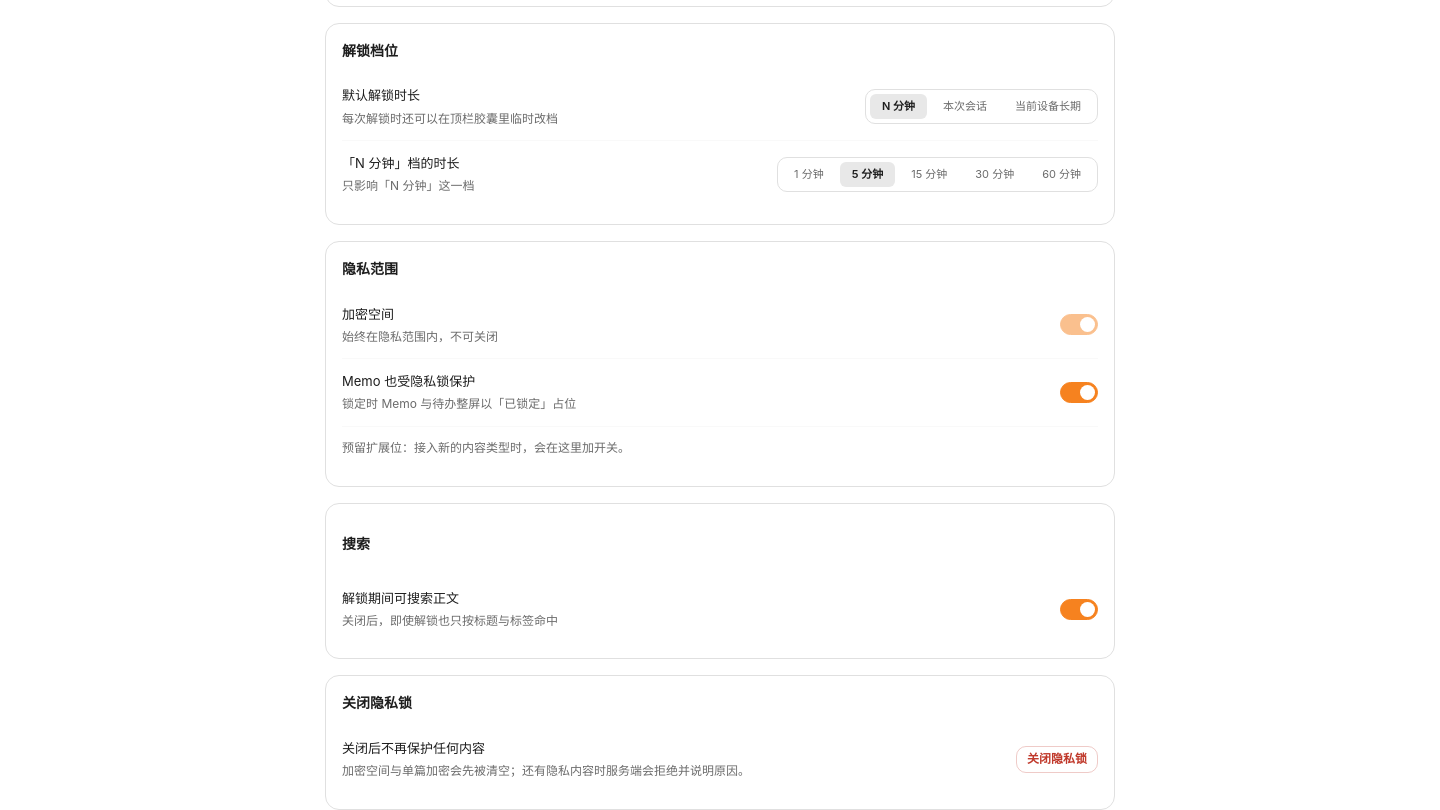
关闭隐私锁 › 关闭成功给出说明（而不是静默）
The image size is (1440, 810).
(page scrolled)
Click the button "关闭隐私锁" at point(1057, 759), box [1016,746,1098,773]
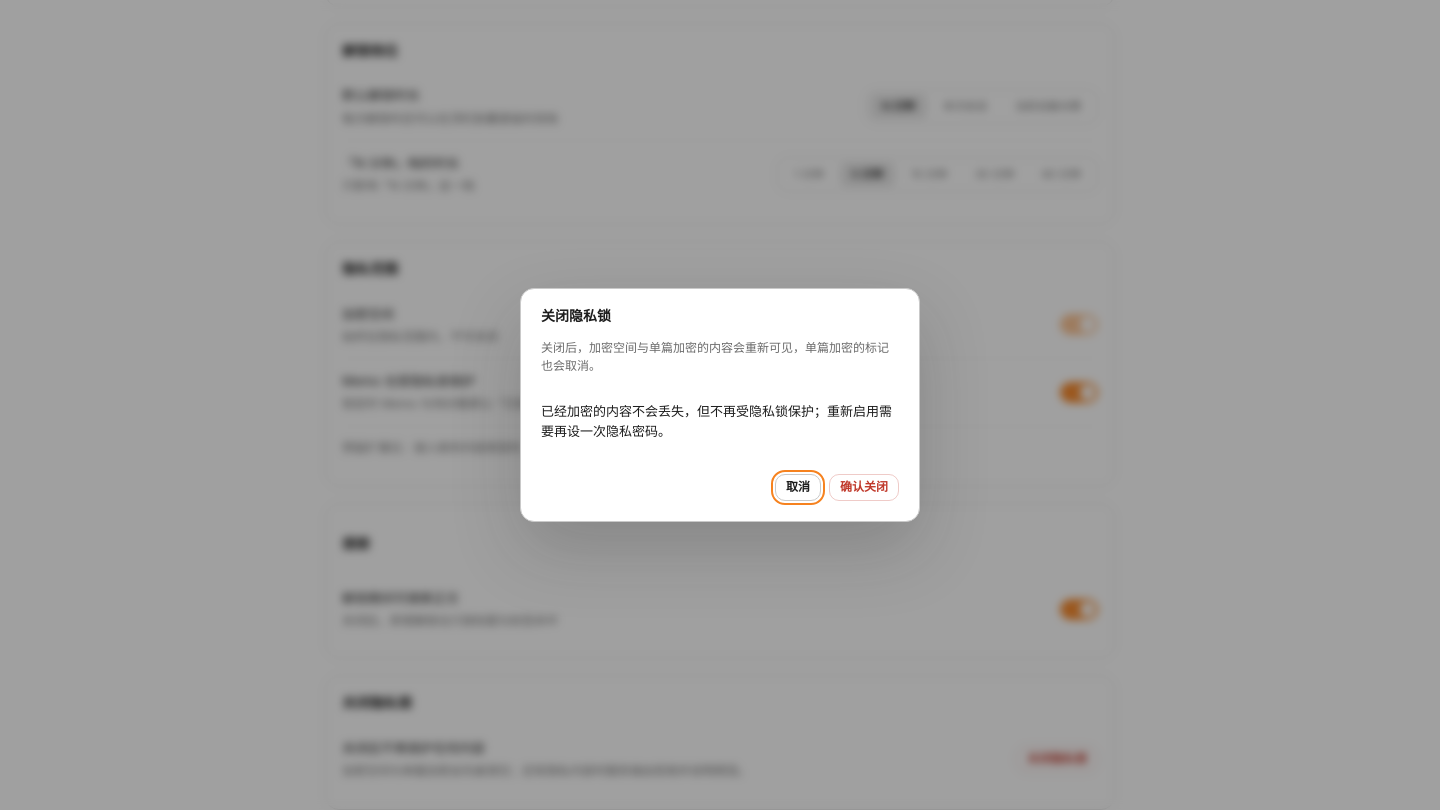
Note: 破坏性操作要二次确认（DESIGN.md §6.5）：入口之后还有一步
Click the button "确认关闭" at point(864, 488), box [829,474,899,501]
(page scrolled)
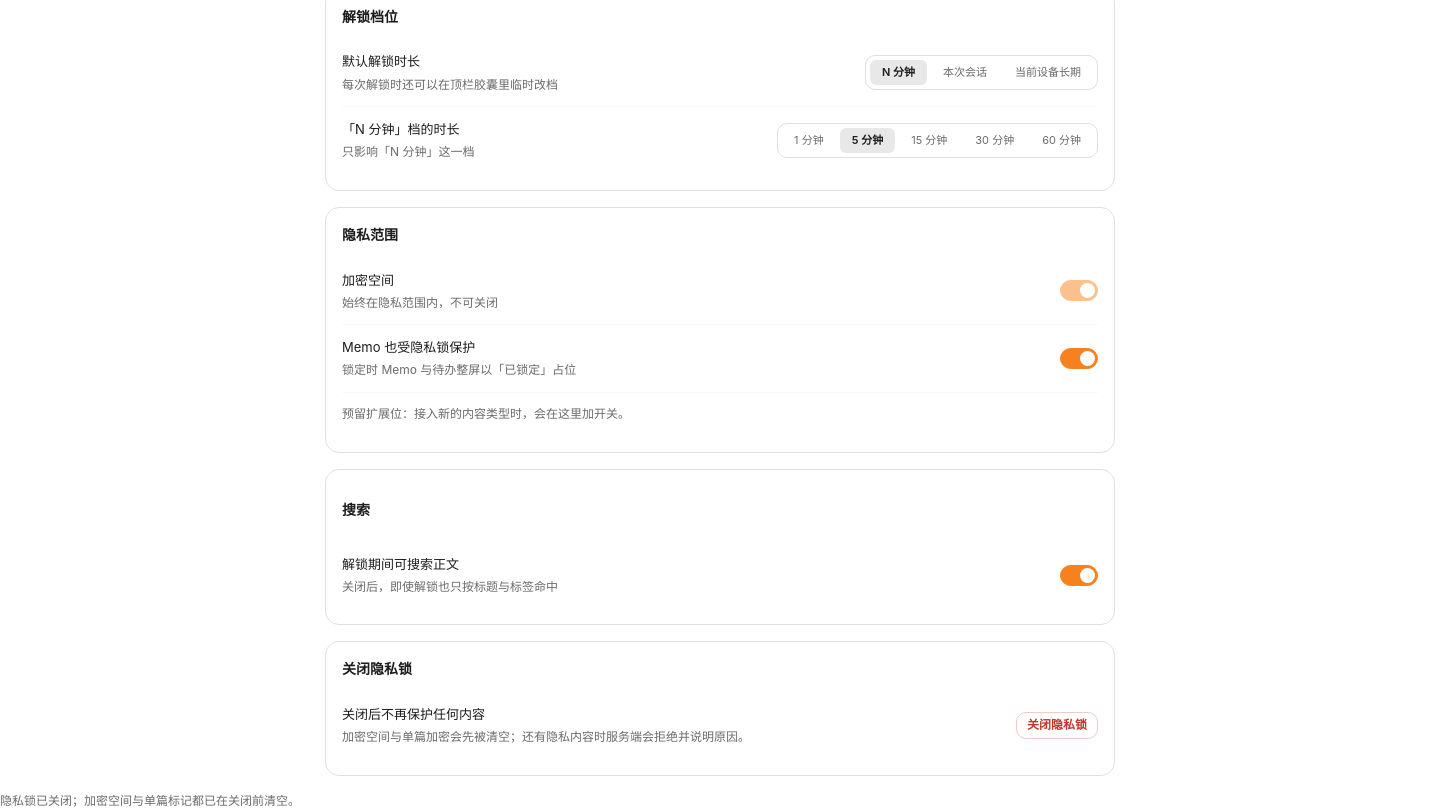
Result: the message "隐私锁已关闭；加密空间与单篇标记都已在关闭前清空。" is shown at [0,793,300,808]
